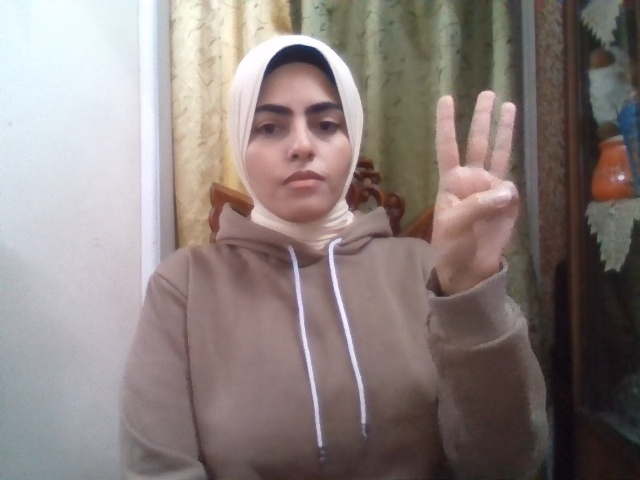W: (432, 90, 520, 276)
